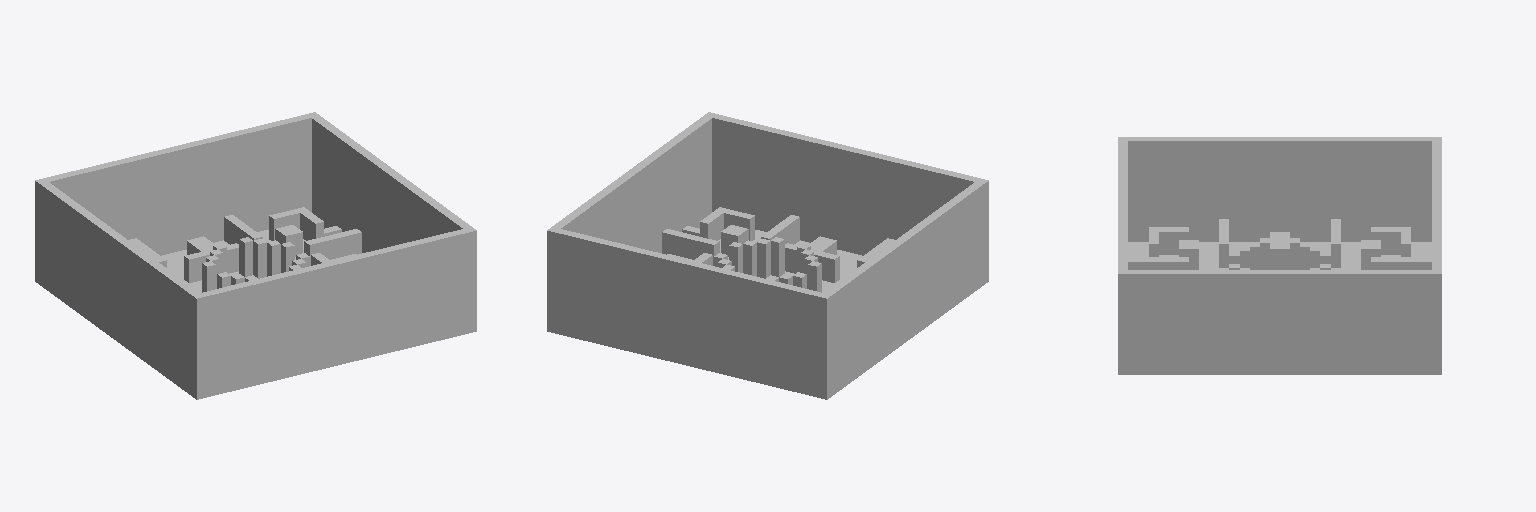
The model's file is redArena.obj.
3 renders of one model, left to right at view 1: azimuth 30°, elevation 25°; view 2: azimuth 150°, elevation 25°; view 3: azimuth 270°, elevation 25°, orthographic.
Parts seen in each view (by area): view 1: Plane; view 2: Plane; view 3: Plane.
Boxes of the visible parts, box(x1,y1,x2,y2) form: Plane: box(35, 112, 476, 399); Plane: box(547, 112, 988, 399); Plane: box(1118, 137, 1441, 374).
Size of the model in its own units: 371 by 128 by 371.